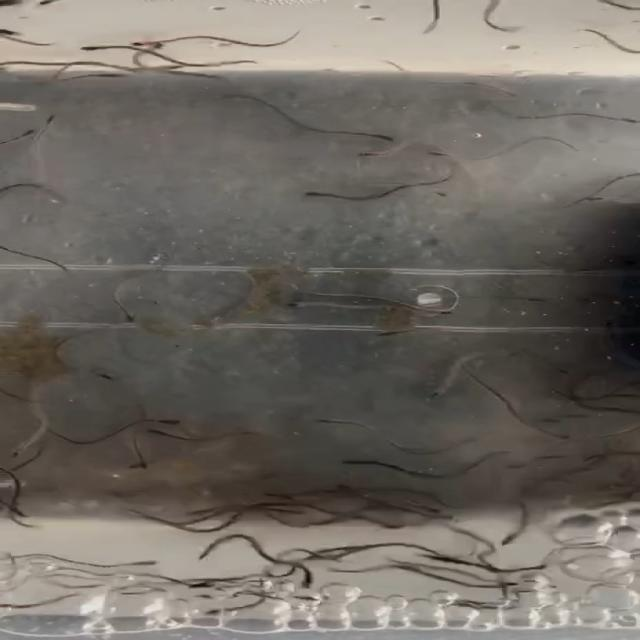active_glass_eel: (408, 384, 470, 412), (356, 124, 414, 150), (415, 298, 476, 322), (263, 294, 322, 316), (84, 365, 136, 388), (99, 306, 152, 328), (337, 148, 417, 162), (509, 288, 558, 310), (289, 185, 335, 208), (168, 578, 234, 594), (488, 528, 529, 553), (60, 41, 108, 61), (24, 109, 66, 130), (126, 456, 160, 481), (290, 570, 324, 595), (311, 408, 346, 431), (540, 426, 578, 447), (323, 480, 362, 500), (417, 500, 455, 520), (130, 556, 172, 574), (148, 412, 192, 429), (376, 518, 416, 536), (177, 506, 221, 522), (114, 40, 164, 54), (142, 60, 192, 74), (10, 120, 40, 142), (612, 110, 640, 132), (368, 326, 402, 344), (1, 520, 44, 534), (532, 416, 574, 430), (527, 559, 559, 577), (482, 446, 520, 461), (131, 424, 171, 438), (4, 451, 40, 466), (428, 144, 453, 162), (4, 505, 40, 517), (492, 579, 522, 591)
